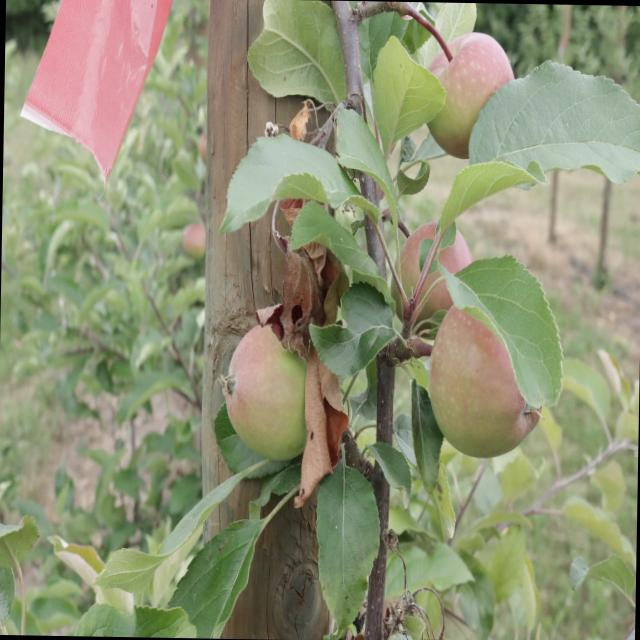-FireBlight-: (276, 214, 354, 502)
